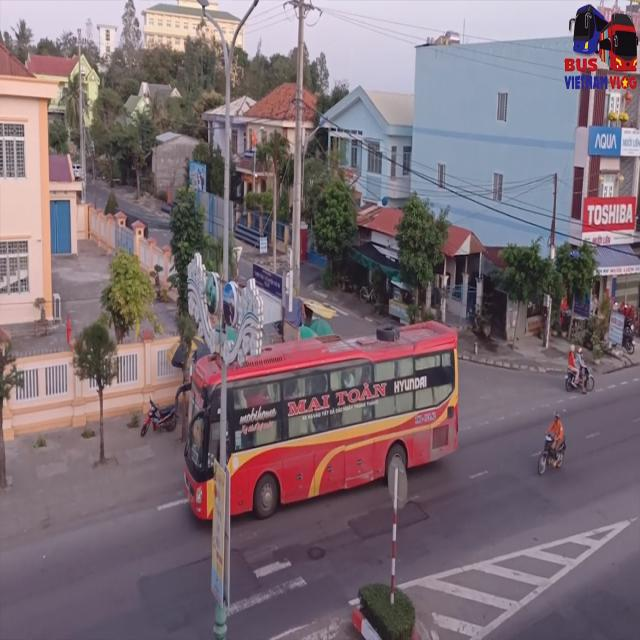bus: (181, 332, 457, 531)
motorbike: (538, 413, 566, 477), (566, 348, 594, 394)
truck: (569, 1, 640, 34)
